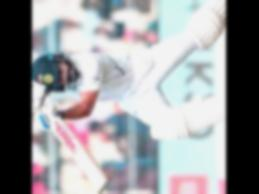batsman: (34, 0, 226, 165)
